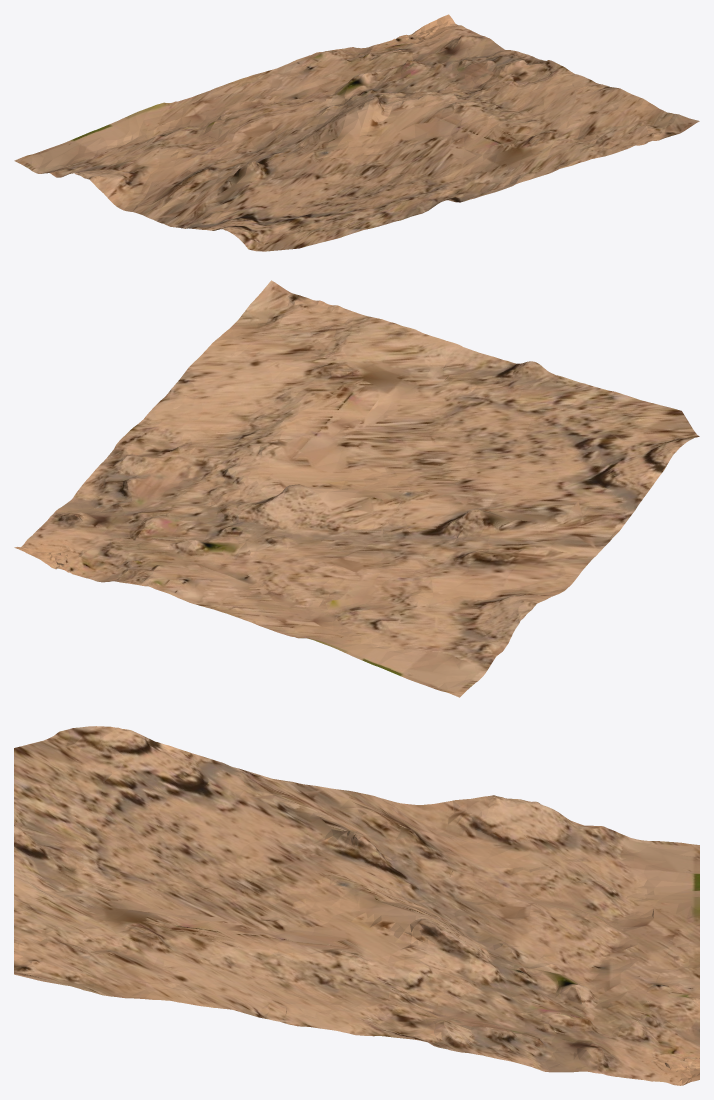
3 renders of one model, top to bottom at view 1: azimuth 30°, elevation 25°; view 2: azimuth 150°, elevation 25°; view 3: azimuth 270°, elevation 25°, orthographic. The views are drawn at different scales.
Size of the model in its own units: 8.36 by 2.16 by 8.36.
2 materials, 2 textured.
